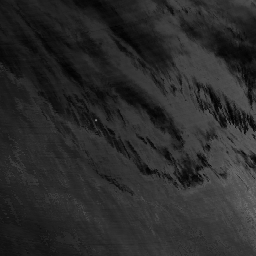Target: (92, 117, 98, 123)
